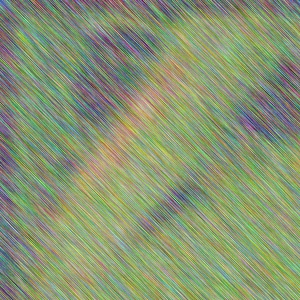Brown_Spot: (120, 53, 193, 129), (76, 137, 128, 182)
